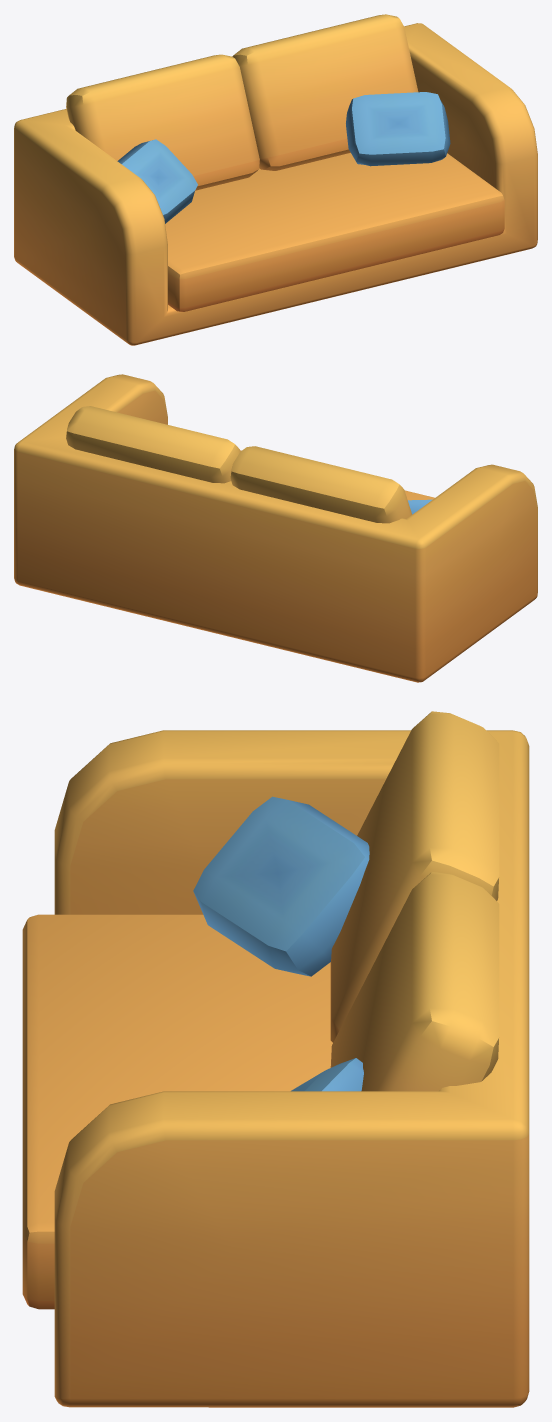
Rendered from kay-sofa.gltf.
The picture shows the model from 3 angles, top to bottom: view 1: azimuth 30°, elevation 25°; view 2: azimuth 150°, elevation 25°; view 3: azimuth 270°, elevation 25°; orthographic projection. The views are drawn at different scales.
Visible parts, largest first — view 1: couch_pillows; view 2: couch_pillows; view 3: couch_pillows.
Part boxes in pixels (x1,y1,x2,y2): couch_pillows: [14, 14, 537, 345]; couch_pillows: [14, 374, 537, 682]; couch_pillows: [22, 711, 529, 1407].
Bounding box in the file's own units: 1.95 × 0.7956 × 1.04.
Materials: 1 (1 with a texture image).
